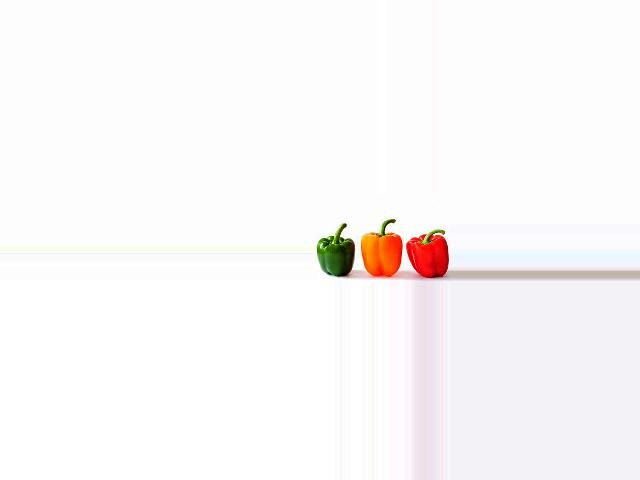bell_pepper: (405, 219, 451, 276)
